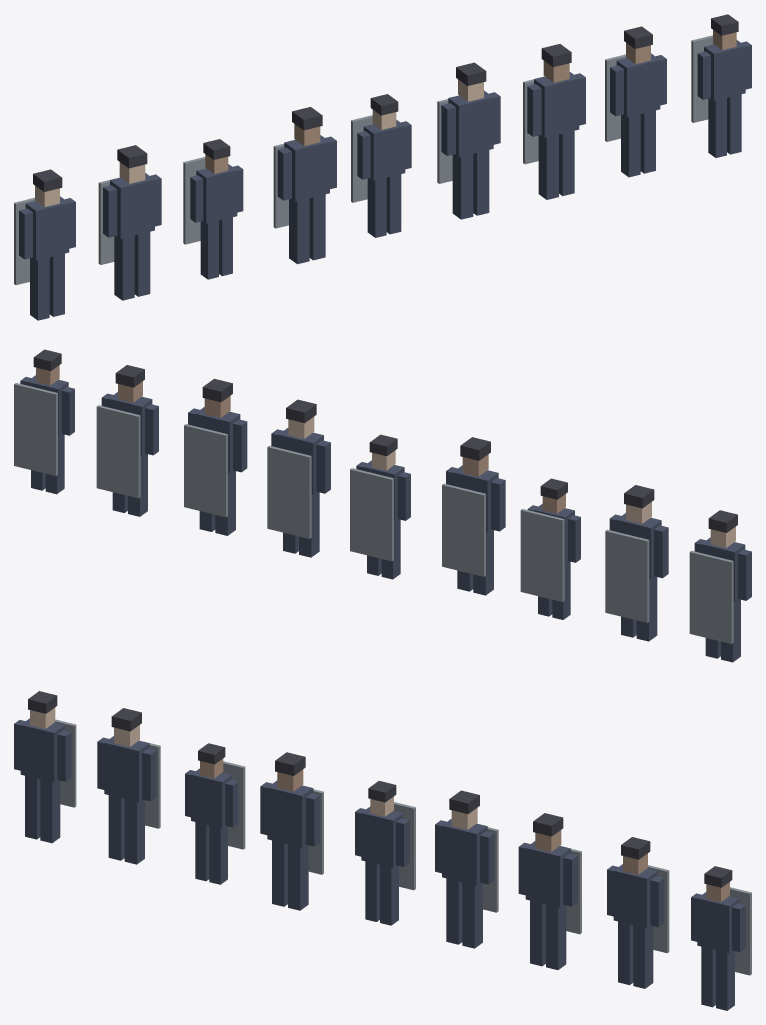
Rendered from SM_Linea_Policia.fbx.
3 renders of one model, top to bottom at view 1: azimuth 30°, elevation 25°; view 2: azimuth 150°, elevation 25°; view 3: azimuth 330°, elevation 25°, orthographic.
Parts seen in each view (by area): view 1: SM_Linea_Policia; view 2: SM_Linea_Policia; view 3: SM_Linea_Policia.
Boxes of the visible parts, x1=… form: SM_Linea_Policia: x1=14, y1=14, x2=751, y2=320; SM_Linea_Policia: x1=14, y1=349, x2=751, y2=662; SM_Linea_Policia: x1=14, y1=691, x2=751, y2=1010.
Size of the model in its own units: 10.74 by 2.05 by 0.6562.
